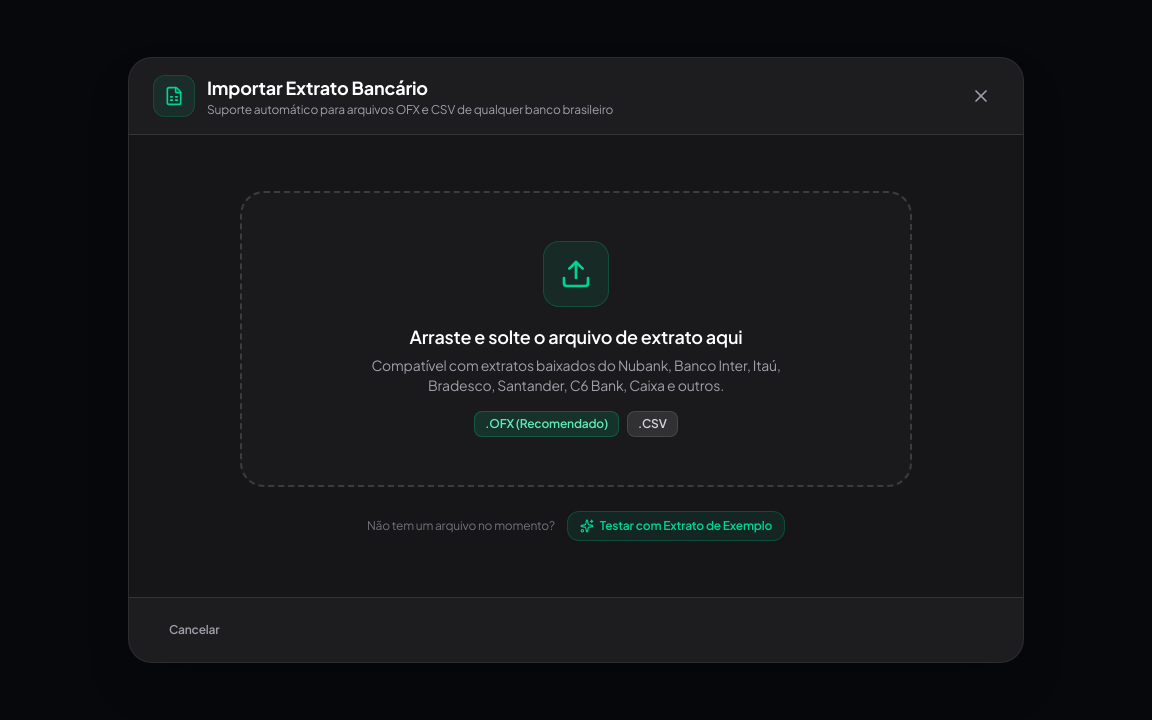
it: <ImportStatementModal /> (Importação de Extrato Bancário) › deve sinalizar transações duplicadas se já existirem no sistema
This screenshot has width=1152, height=720.
Click the button with test id "load-demo-statement-btn": click(676, 526) [567,511,785,541]
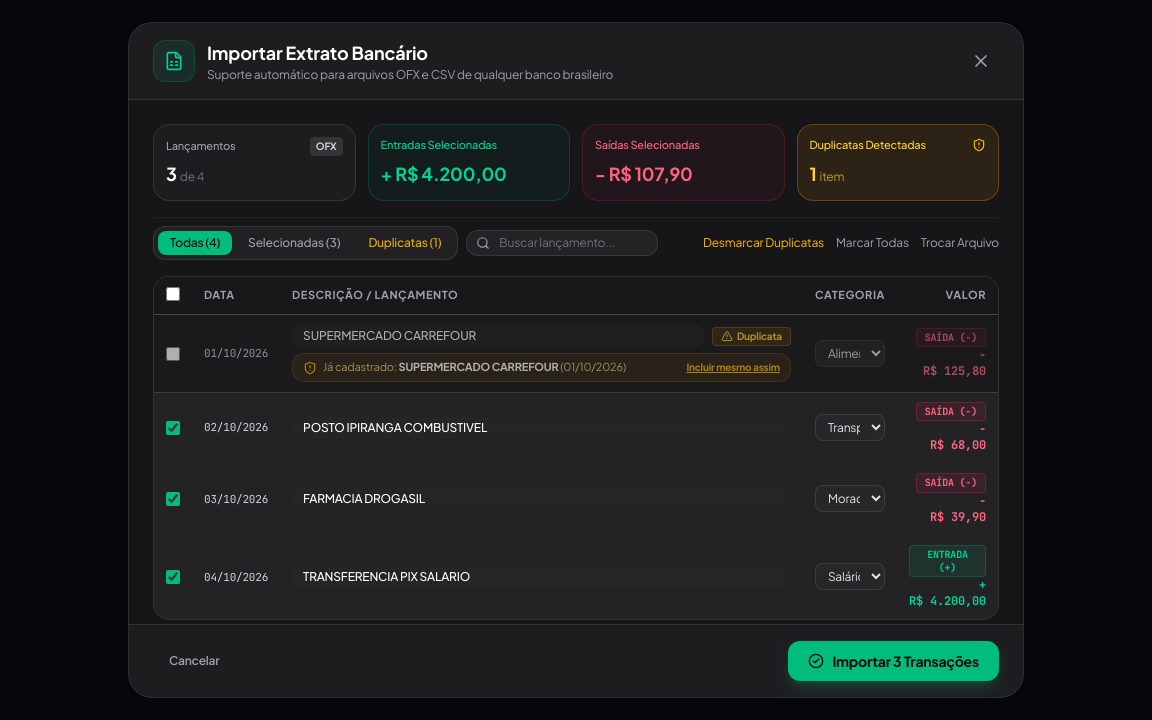
Check: the text "Duplicata" is shown, box [737,330,782,343]
Check: the text "Já cadastrado: SUPERMERCADO CARREFOUR (01/10/2026)" is shown, box [323,360,626,375]
Check: the button "Desmarcar Duplicatas" is shown, box [703,235,824,251]
